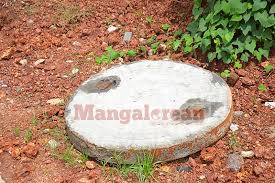Manhole-Closed: (69, 56, 252, 171)
